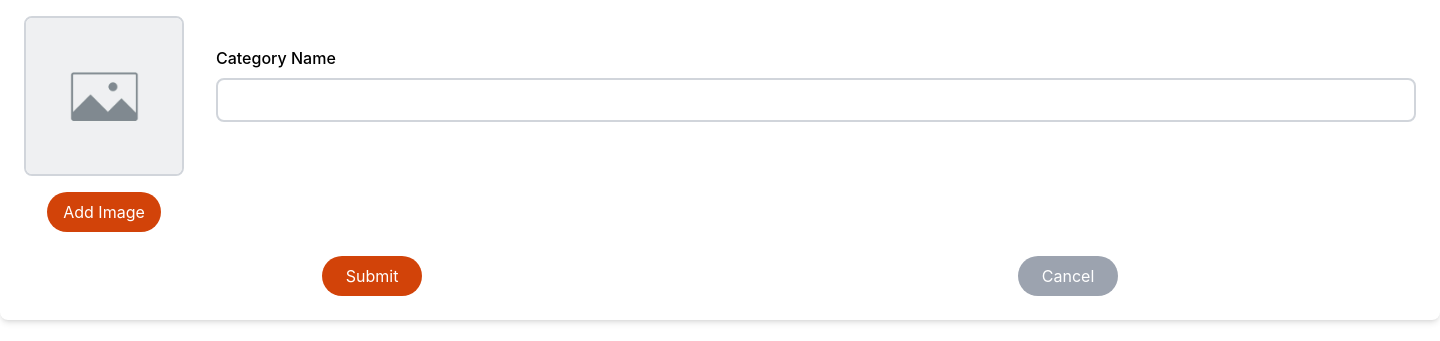
Test case: Should give validation errors when needed
Clear the field at (816, 100), box [216, 78, 1416, 122]
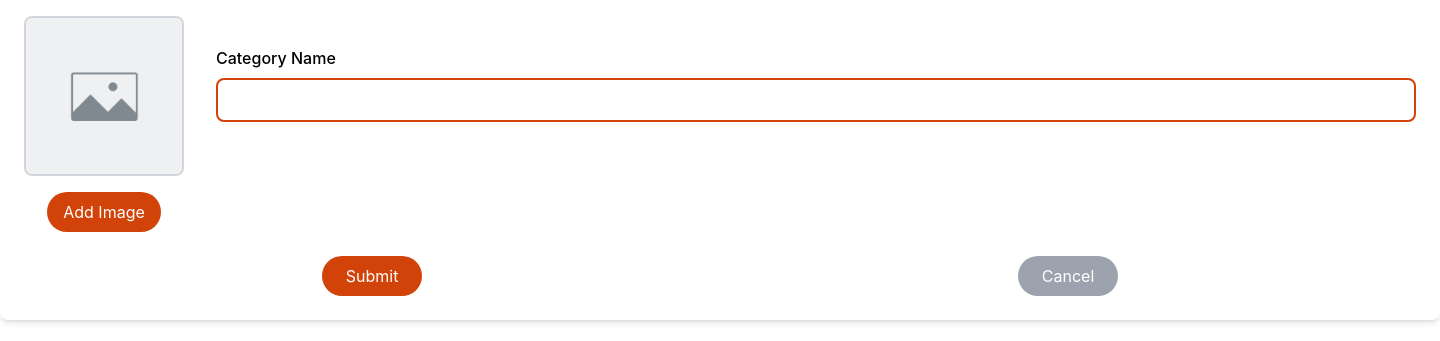
Click the button "Submit".
click(372, 276)  # box [322, 256, 422, 296]
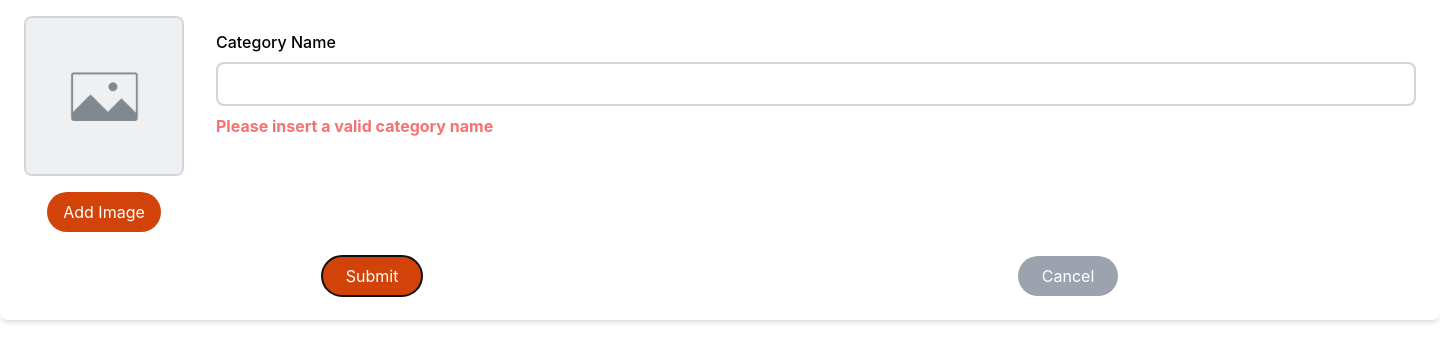
Check: the text "Please insert a valid category name" is shown, box [216, 116, 493, 136]
Type "S" into the field.
click(816, 84); type("S")  # box [216, 62, 1416, 106]
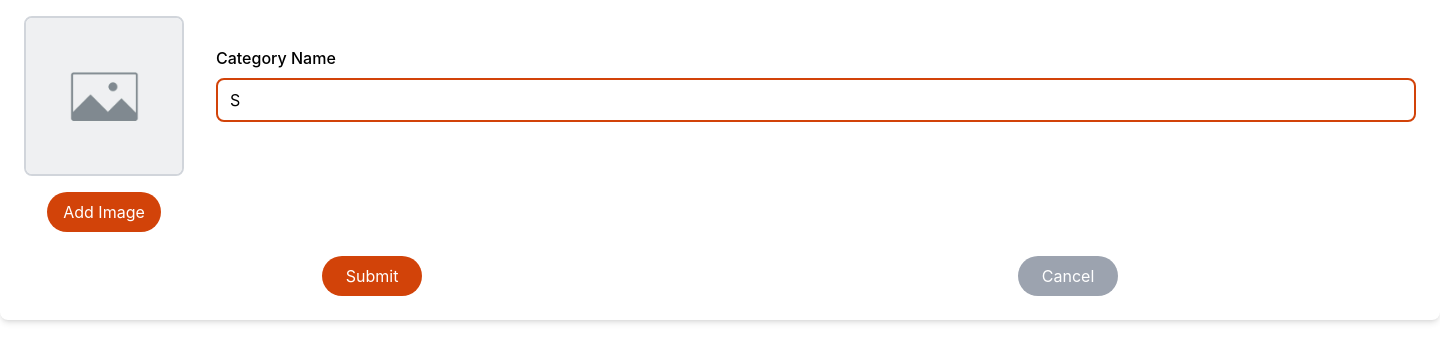
Check: the text "Please insert a valid category name" is gone
Clear the field at (816, 100), box [216, 78, 1416, 122]
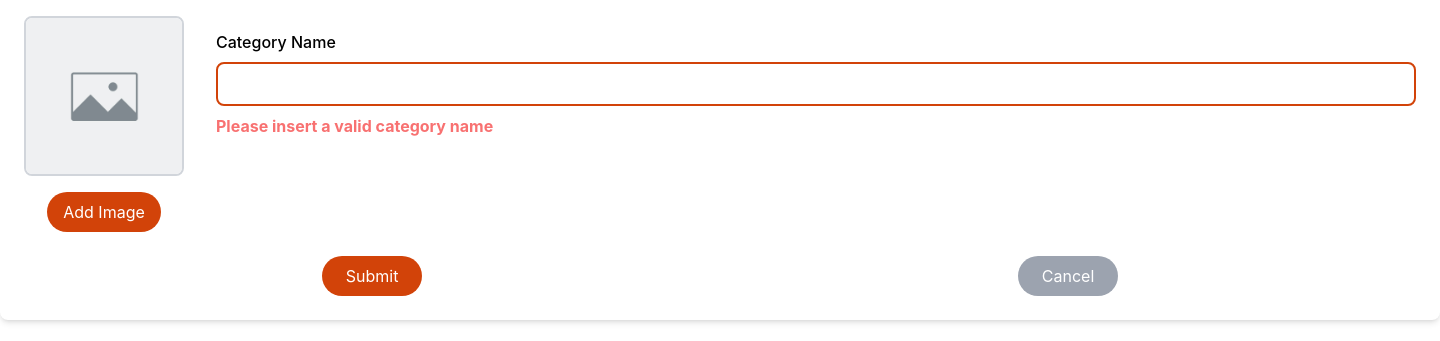
Check: the text "Please insert a valid category name" is shown, box [216, 116, 493, 136]
